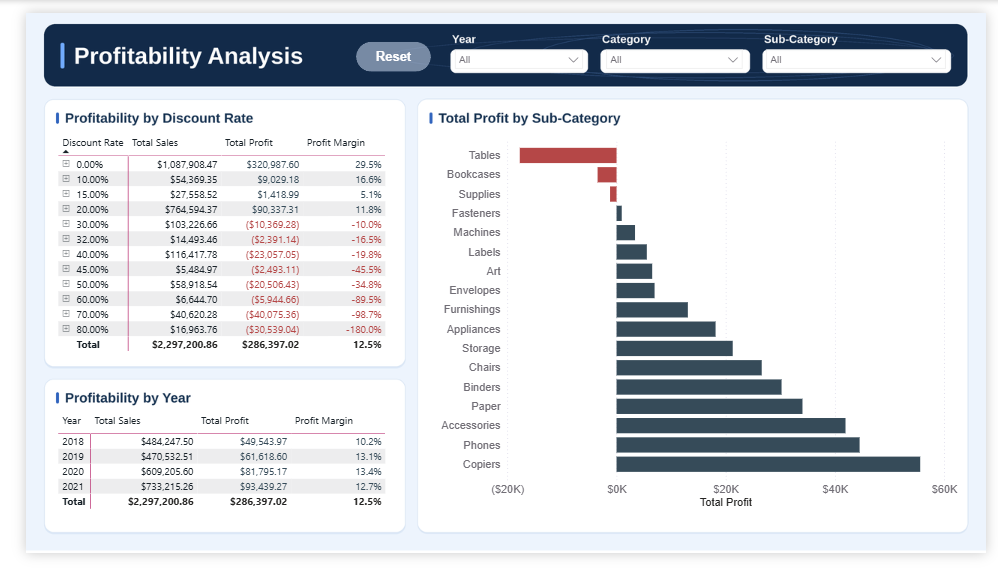

The page's visual inventory and layout, read from the dashboard file:
{"tool":"powerbi","page":{"name":"Page 2","canvas":[1280,720],"ordinal":1},"visuals":[{"type":"slicer","fields":{"Values":["Calendar.Year"]},"box":[562.1,39,191,51.1],"z":0},{"type":"slicer","title":"C","fields":{"Values":["orders_for_power_bi.category"]},"box":[762.5,39,201.7,52.4],"z":1000},{"type":"slicer","fields":{"Values":["orders_for_power_bi.sub_category"]},"box":[976.3,39,259.6,52.4],"z":2000},{"type":"pivotTable","title":"Profitability by Year","fields":{"Rows":["Calendar.Year"],"Values":["orders_for_power_bi.Total Sales","orders_for_power_bi.Total Profit","orders_for_power_bi.Profit Margin"]},"box":[37.7,527.2,457.2,156],"z":3000},{"type":"pivotTable","title":"Profitability by Discount Rate","fields":{"Values":["orders_for_power_bi.Total Sales","orders_for_power_bi.Total Profit","orders_for_power_bi.Profit Margin"],"Rows":["orders_for_power_bi.discount_rate","Calendar.Year"]},"box":[37.7,156,457.2,309.3],"z":4000},{"type":"clusteredBarChart","title":"Total Profit by Sub Category","fields":{"Category":["orders_for_power_bi.sub_category"],"Y":["orders_for_power_bi.Total Profit"]},"box":[539.3,156,707.4,509.7],"z":5000},{"type":"actionButton","box":[440,38.3,100,40],"z":6000}]}

Visuals, with their boxes in screenshot pixels (x1, y1, x2, y2), scaled from the page's 1280x720 canvas onto the 998x575 screenshot:
slicer - Calendar.Year: box=[438, 31, 587, 72]
"C" slicer: box=[595, 31, 752, 73]
slicer - orders_for_power_bi.sub_category: box=[761, 31, 964, 73]
"Profitability by Year" pivotTable: box=[29, 421, 386, 546]
"Profitability by Discount Rate" pivotTable: box=[29, 125, 386, 372]
"Total Profit by Sub Category" clusteredBarChart: box=[420, 125, 972, 532]
actionButton: box=[343, 31, 421, 63]
